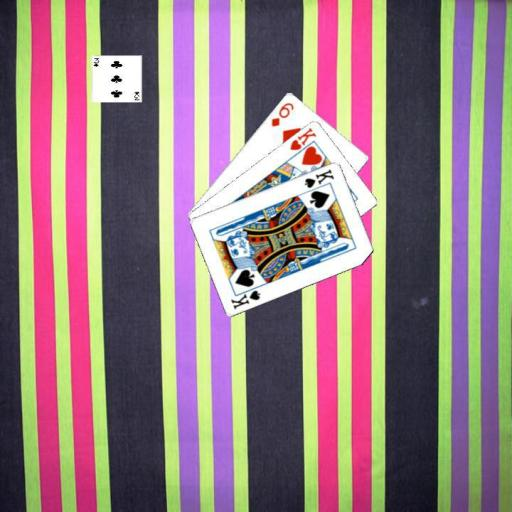6D: (268, 99, 295, 128)
KH: (286, 124, 318, 151)
KS: (228, 282, 262, 310), (302, 166, 336, 189)
